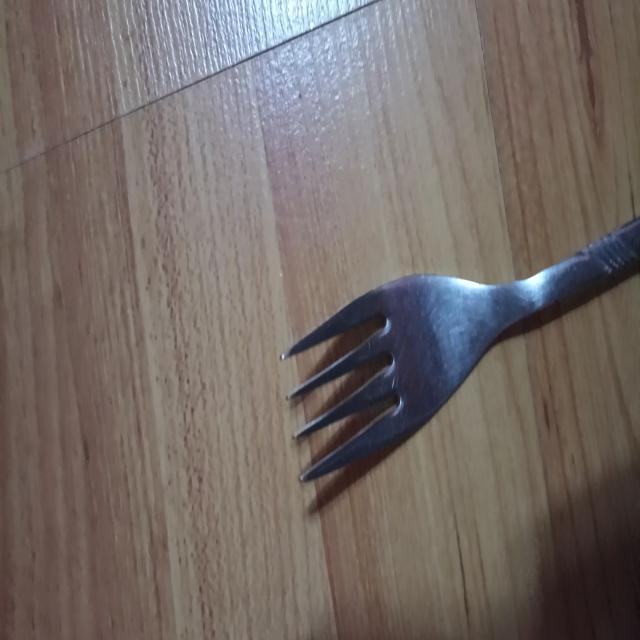spoon: (280, 215, 640, 484)
